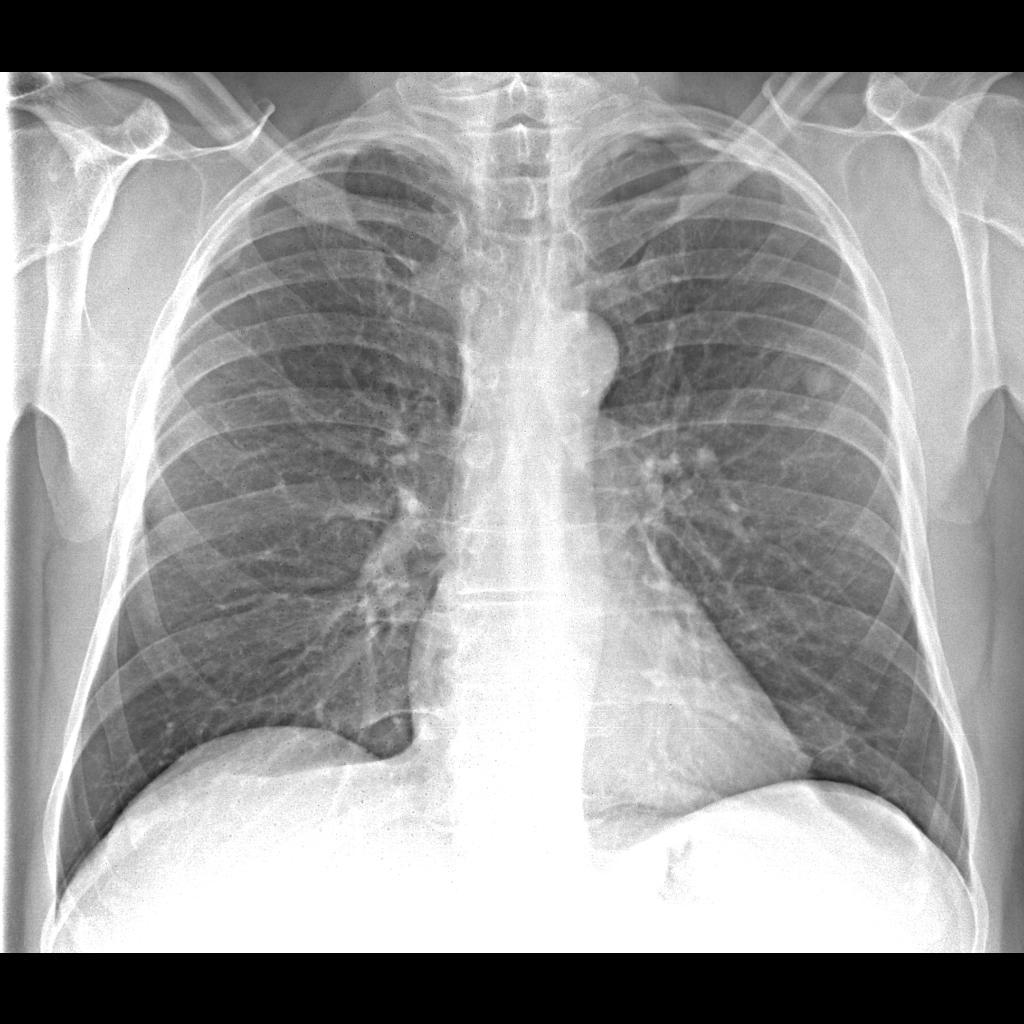Nodule: (795, 355, 838, 404)
